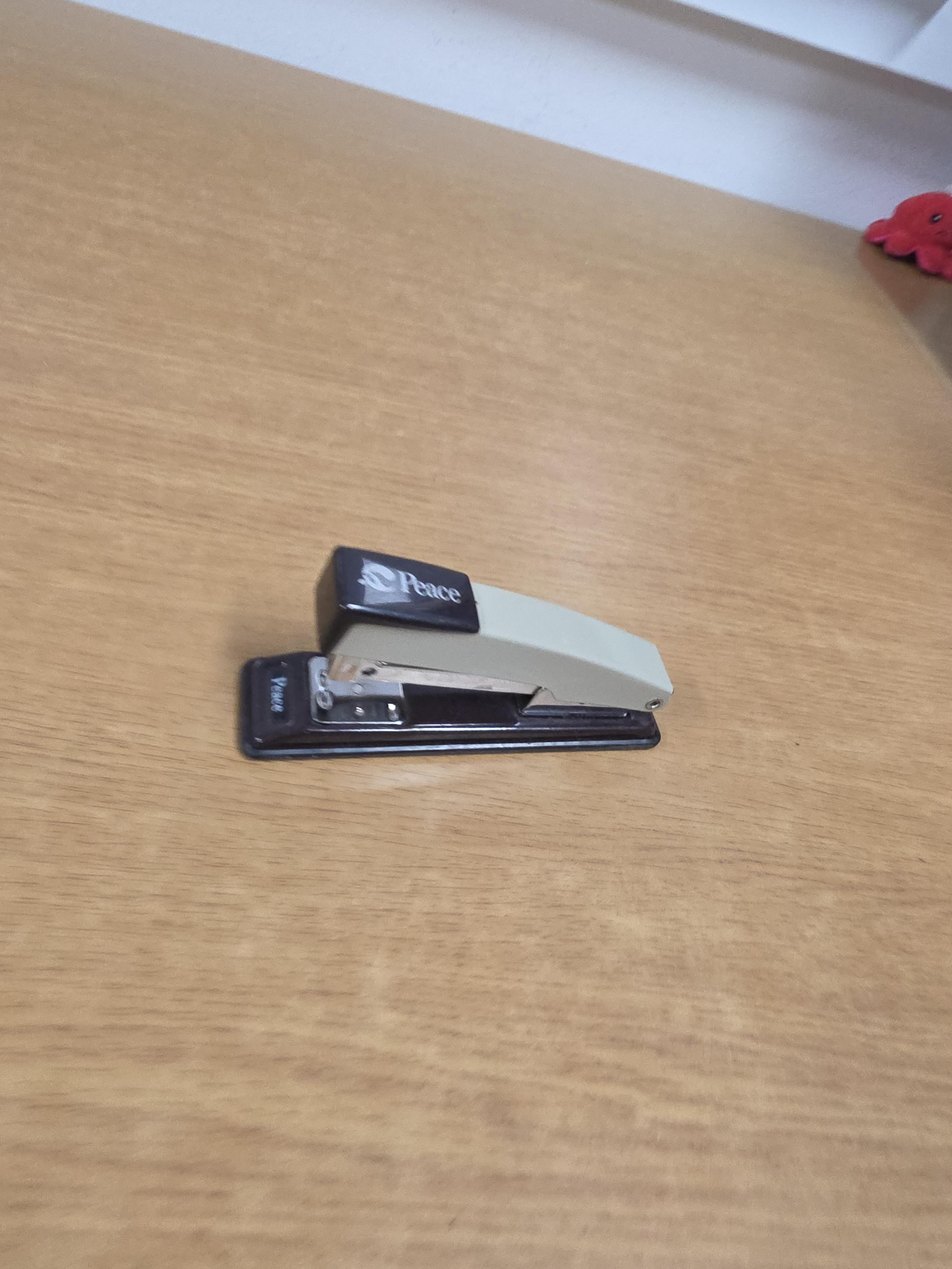stapler: (237, 545, 675, 763)
